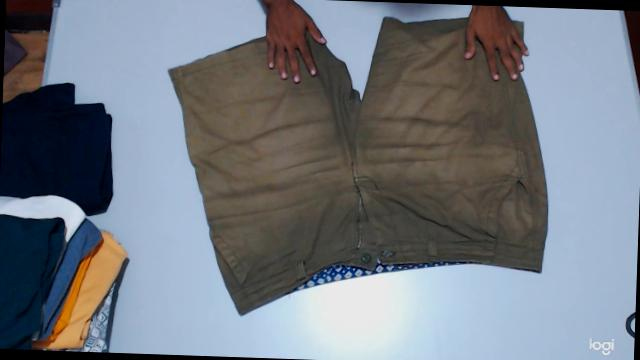new-garment: (169, 18, 547, 314)
